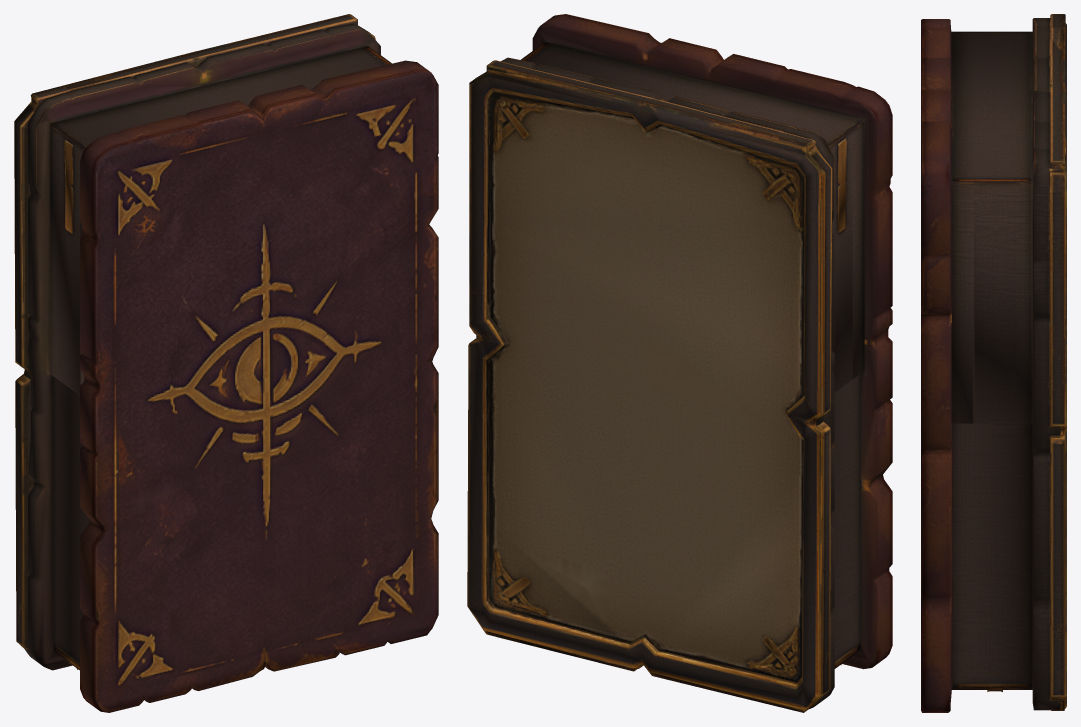
The model's file is SkillCard.fbx.
3 views of the same model, side by side, from view 1: azimuth 30°, elevation 25°; view 2: azimuth 150°, elevation 25°; view 3: azimuth 270°, elevation 25° (orthographic). The views are drawn at different scales.
Visible parts, largest first — view 1: tripo_node_62b1d3c1; view 2: tripo_node_62b1d3c1; view 3: tripo_node_62b1d3c1.
Boxes of the visible parts, x1,y1,x2,y2 form: tripo_node_62b1d3c1: [14, 14, 438, 712]; tripo_node_62b1d3c1: [467, 14, 892, 712]; tripo_node_62b1d3c1: [921, 14, 1066, 712].
Size of the model in its own units: 0.6543 by 0.998 by 0.2402.
